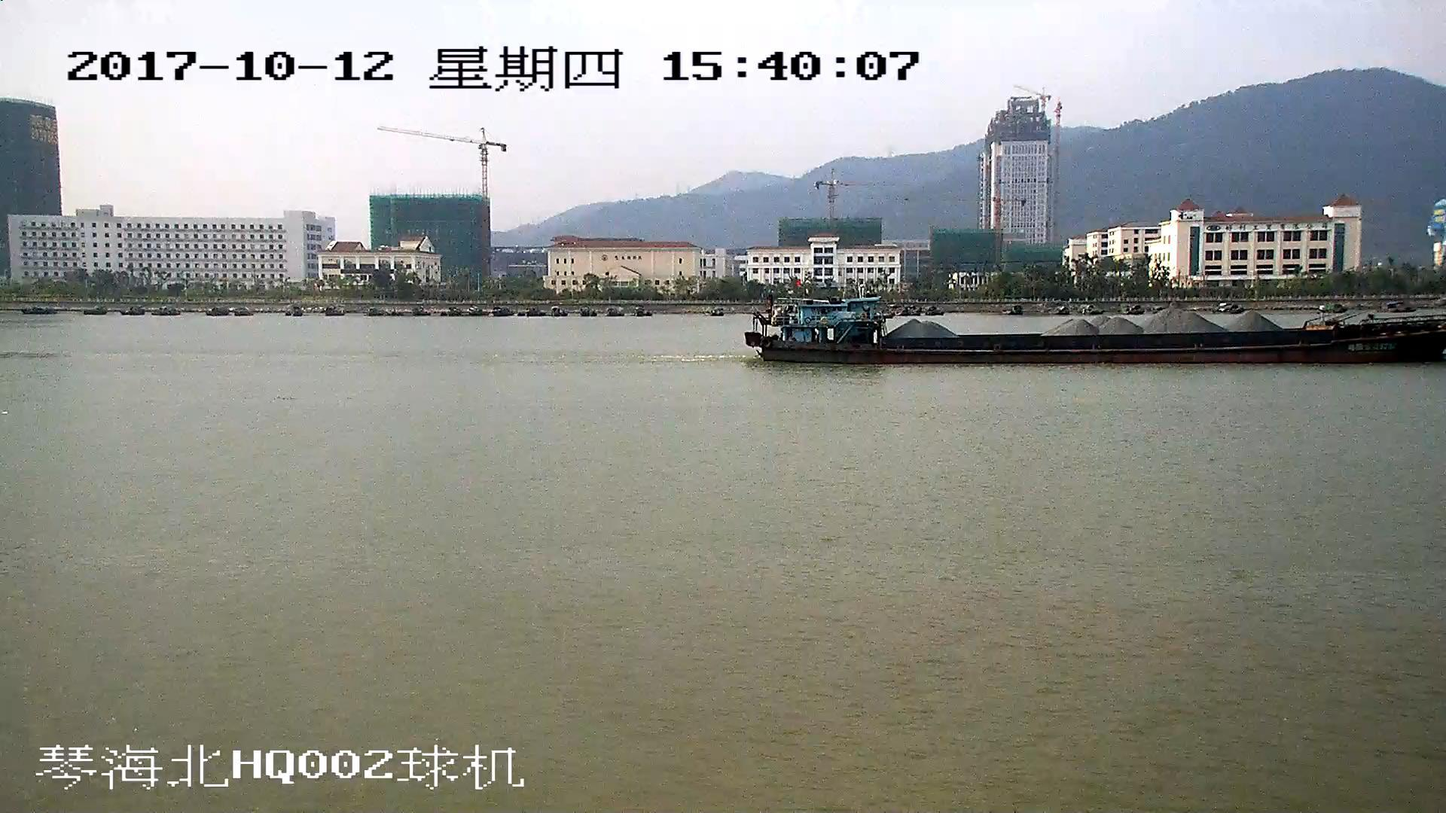ore carrier: (749, 294, 1445, 364)
